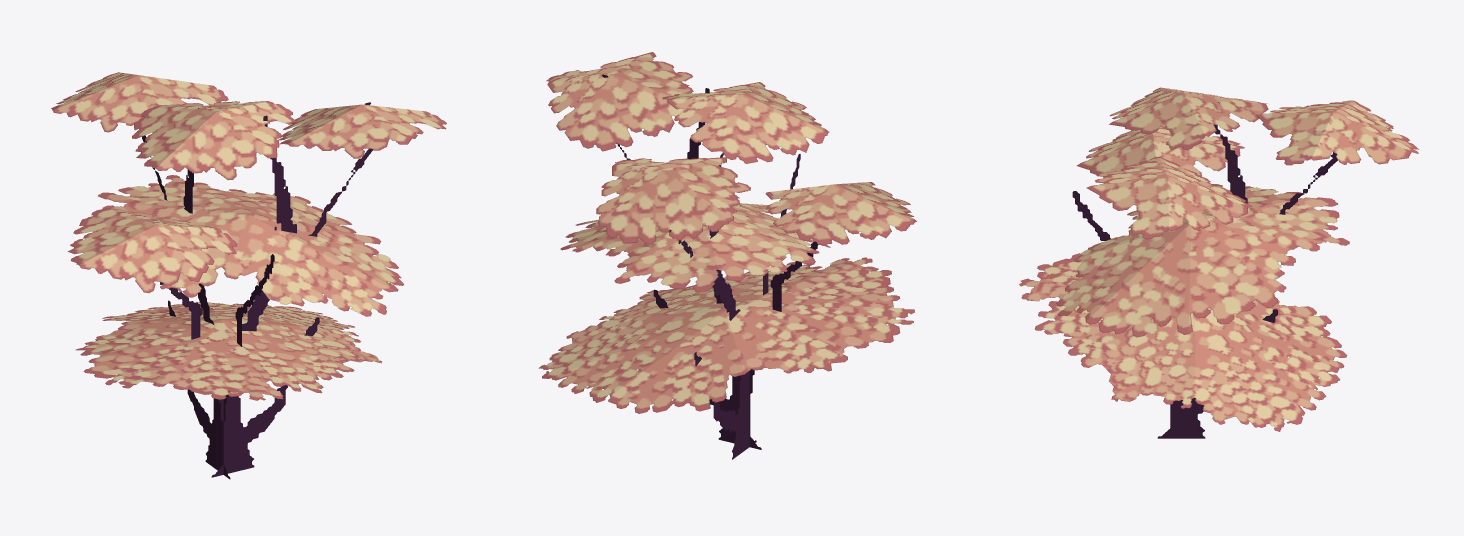
Rendered from bush_03c.fbx.
3 views of the same model, side by side, from view 1: azimuth 30°, elevation 25°; view 2: azimuth 150°, elevation 25°; view 3: azimuth 270°, elevation 25° (orthographic). The views are drawn at different scales.
Visible parts, largest first — view 1: bush_03c; view 2: bush_03c; view 3: bush_03c.
Part boxes in pixels (x1=…): bush_03c: x1=51, y1=72, x2=446, y2=479; bush_03c: x1=538, y1=52, x2=916, y2=459; bush_03c: x1=1019, y1=87, x2=1418, y2=438.
Size of the model in its own units: 0.3819 by 0.3206 by 0.3667.
Materials: 1 (1 with a texture image).
